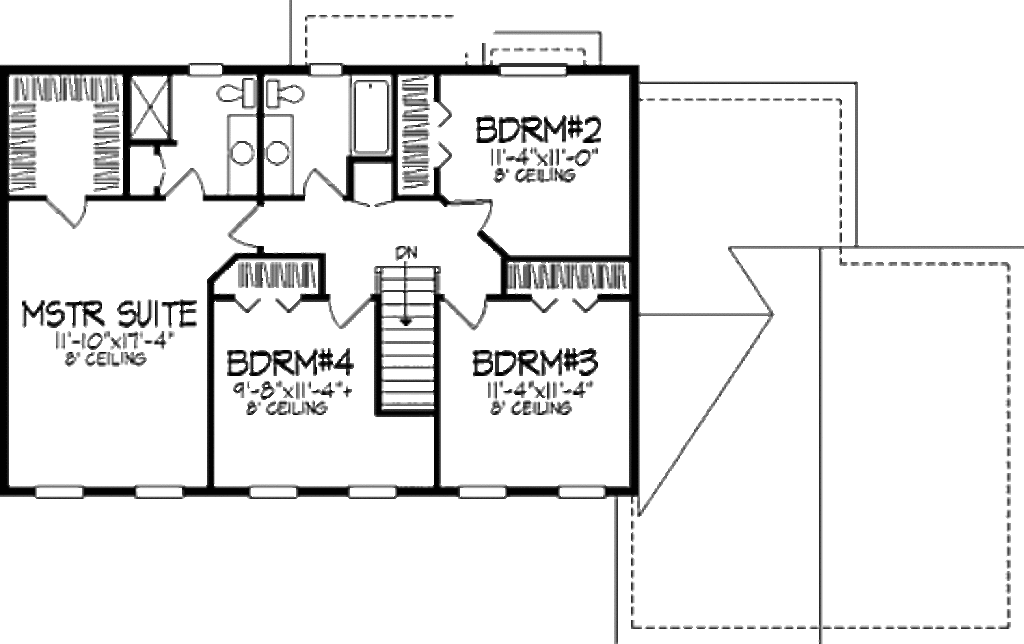door: (440, 288, 490, 332), (301, 163, 346, 206), (41, 188, 88, 228), (322, 292, 373, 326), (225, 205, 265, 247), (166, 164, 210, 202), (451, 196, 496, 233)
large_sink: (260, 73, 306, 111), (214, 78, 257, 112)
small_sink: (262, 111, 297, 196), (225, 111, 259, 195)
stairs: (375, 246, 440, 413)
tub: (346, 74, 395, 160)
windows: (497, 62, 573, 81), (448, 481, 510, 502), (244, 481, 305, 502), (340, 483, 399, 504), (551, 482, 610, 503), (30, 482, 88, 503), (129, 484, 186, 504), (304, 59, 346, 78), (184, 60, 223, 79)
